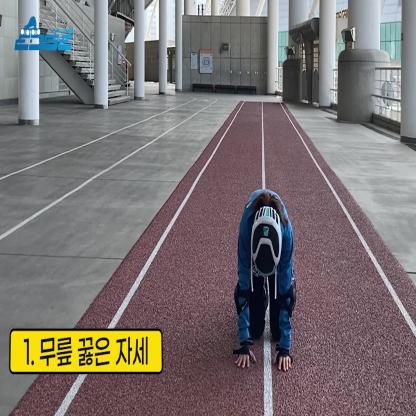Fall_Down: (234, 187, 294, 372)
